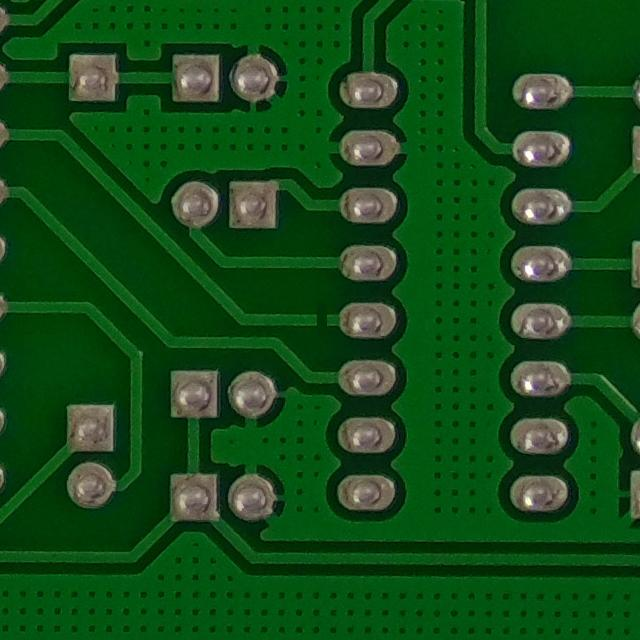open_circuit: (305, 305, 335, 335)
